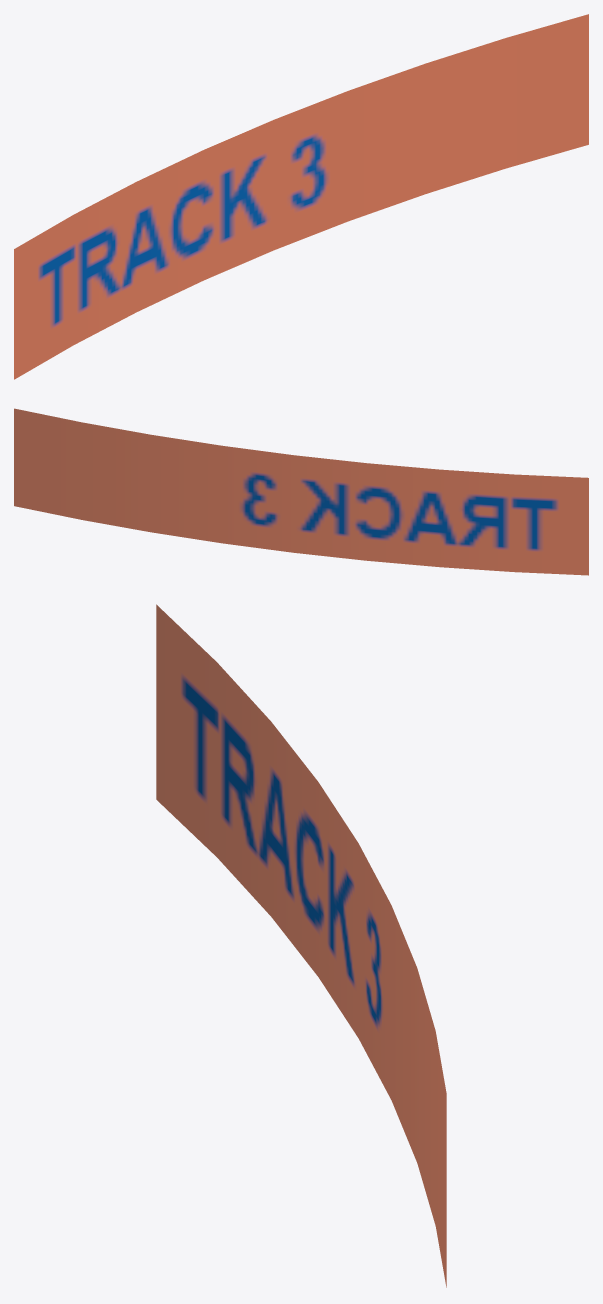
File: track3_selected.glb
The picture shows the model from 3 angles, top to bottom: view 1: azimuth 30°, elevation 25°; view 2: azimuth 150°, elevation 25°; view 3: azimuth 270°, elevation 25°; orthographic projection. The views are drawn at different scales.
Parts seen in each view (by area): view 1: menu_2_tr3; view 2: menu_2_tr3; view 3: menu_2_tr3.
Part boxes in pixels (x1,y1,x2,y2): menu_2_tr3: [14, 14, 588, 379]; menu_2_tr3: [14, 408, 588, 575]; menu_2_tr3: [156, 604, 446, 1287].
Bounding box in the file's own units: 2.74 × 0.509 × 0.6864.
Materials: 1 (1 with a texture image).
